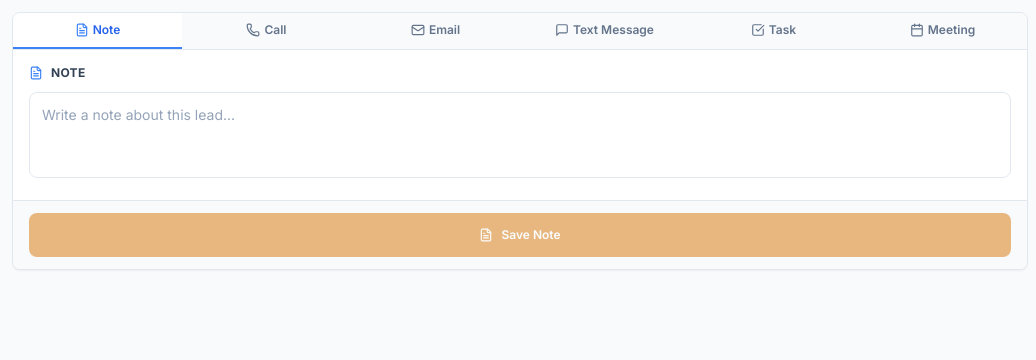
it: ActivityComposer — Text Message tab › shows the SMS conversation panel (consent status + compose box), not the generic Save-form footer
Click the button "Text Message". click: (604, 31)
box: [520, 13, 689, 49]
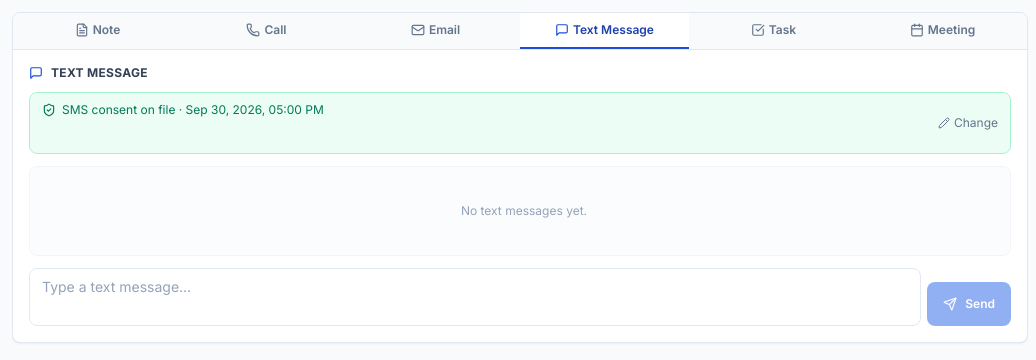
expect the text box with placeholder "Type a text message…" is shown: met, box [29, 268, 921, 326]
